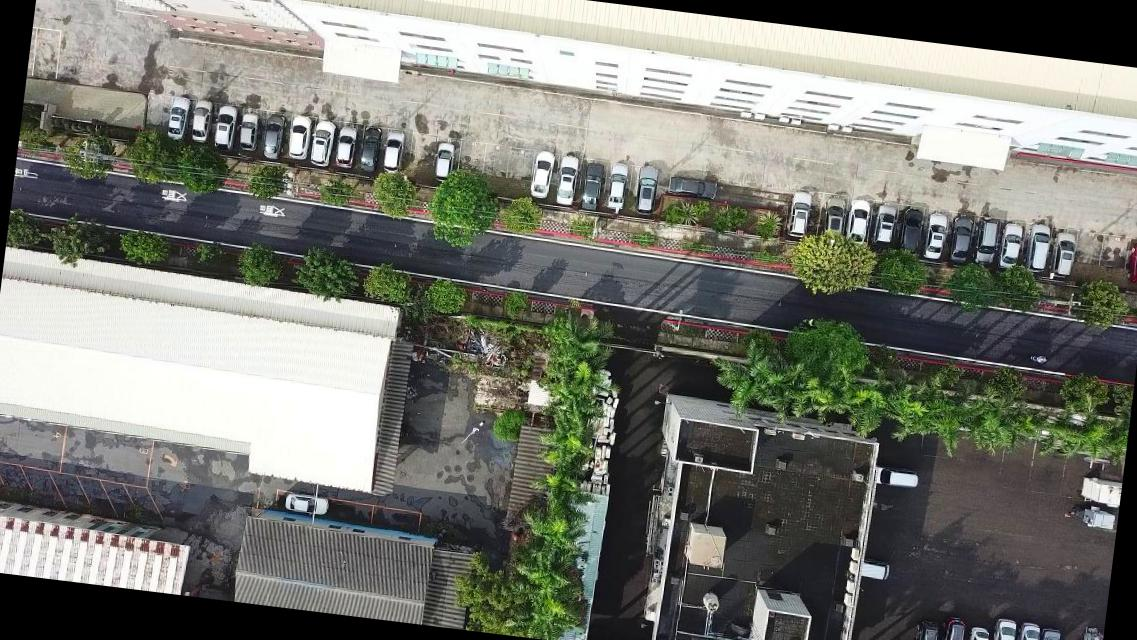vehicle: (784, 188, 816, 241), (946, 213, 976, 264), (896, 203, 926, 254), (1023, 222, 1051, 276), (1050, 229, 1078, 281), (666, 172, 718, 200), (209, 102, 238, 152), (632, 162, 659, 215), (554, 152, 579, 208), (528, 150, 556, 200), (921, 211, 949, 260), (973, 217, 1000, 266), (604, 162, 630, 212), (284, 491, 330, 519), (580, 159, 604, 212), (846, 200, 872, 248), (876, 464, 920, 492), (999, 222, 1024, 270), (307, 122, 334, 166), (872, 204, 900, 246), (286, 114, 310, 162), (431, 140, 457, 184), (164, 96, 190, 140), (822, 193, 846, 240), (262, 114, 286, 160), (234, 112, 260, 154), (188, 99, 212, 144), (380, 130, 403, 176), (358, 126, 380, 174), (335, 126, 358, 170), (860, 558, 888, 580), (1124, 238, 1136, 286), (908, 622, 941, 639), (940, 619, 968, 639), (990, 619, 1016, 639), (1015, 621, 1041, 639), (1033, 626, 1064, 639), (965, 628, 989, 639)
